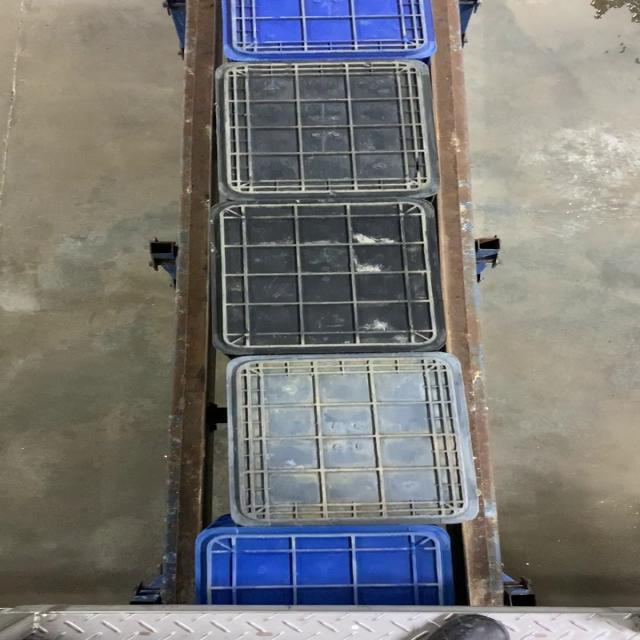Box: (226, 353, 484, 527), (207, 200, 450, 353), (212, 56, 440, 201)
